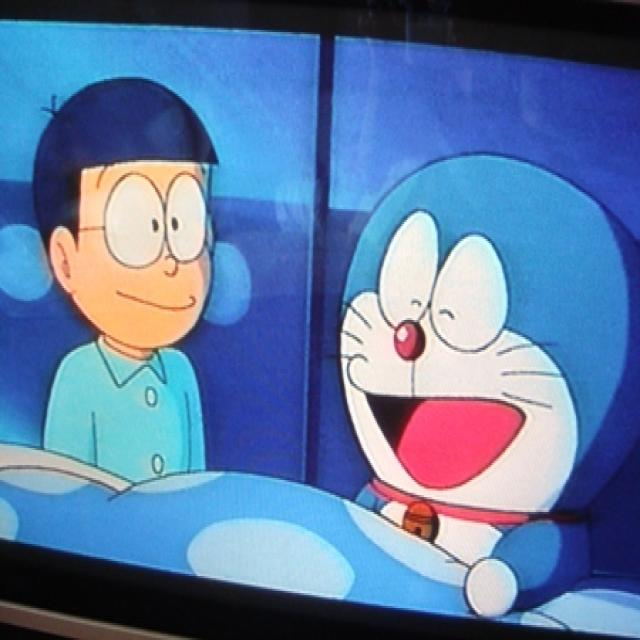doraemon: (337, 148, 639, 582)
nobita: (30, 68, 226, 376)
